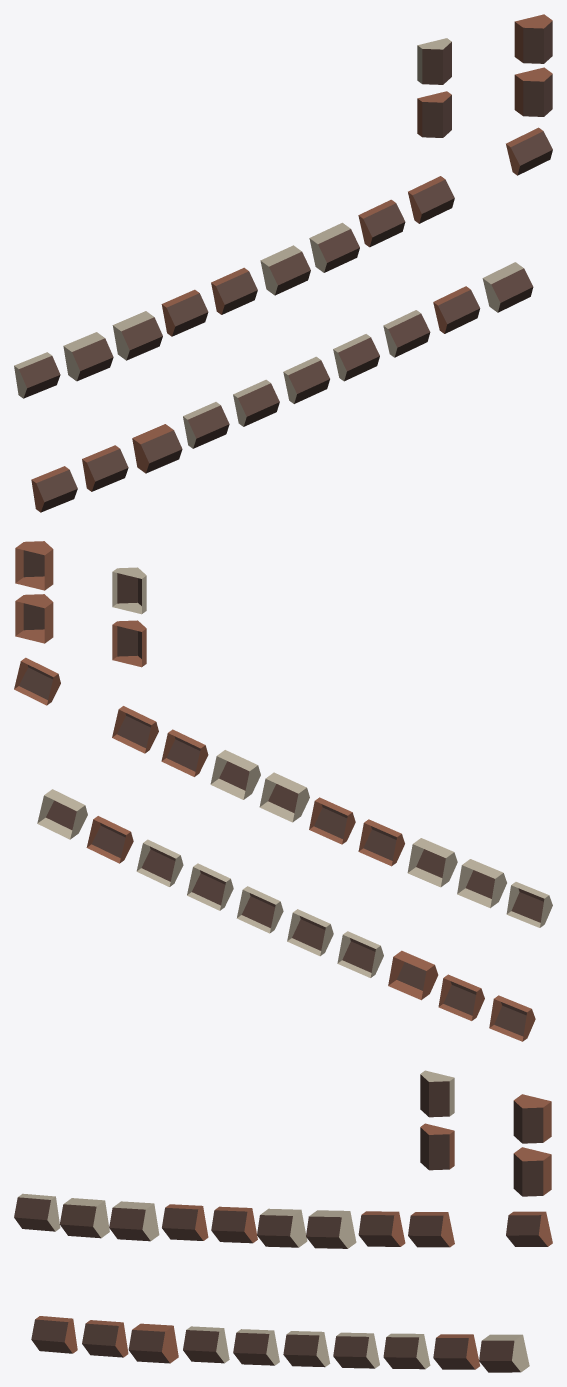
The model's file is island_bldg_22_02.obj.
The picture shows the model from 3 angles, top to bottom: view 1: azimuth 30°, elevation 25°; view 2: azimuth 150°, elevation 25°; view 3: azimuth 330°, elevation 25°; orthographic projection.
Parts seen in each view (by area): view 1: island_bldg_22_02; view 2: island_bldg_22_02; view 3: island_bldg_22_02.
Part boxes in pixels (<box>): island_bldg_22_02: <box>14,14,552,512</box>; island_bldg_22_02: <box>14,541,552,1041</box>; island_bldg_22_02: <box>14,1070,552,1372</box>.
Size of the model in its own units: 251 by 168 by 11.9.
